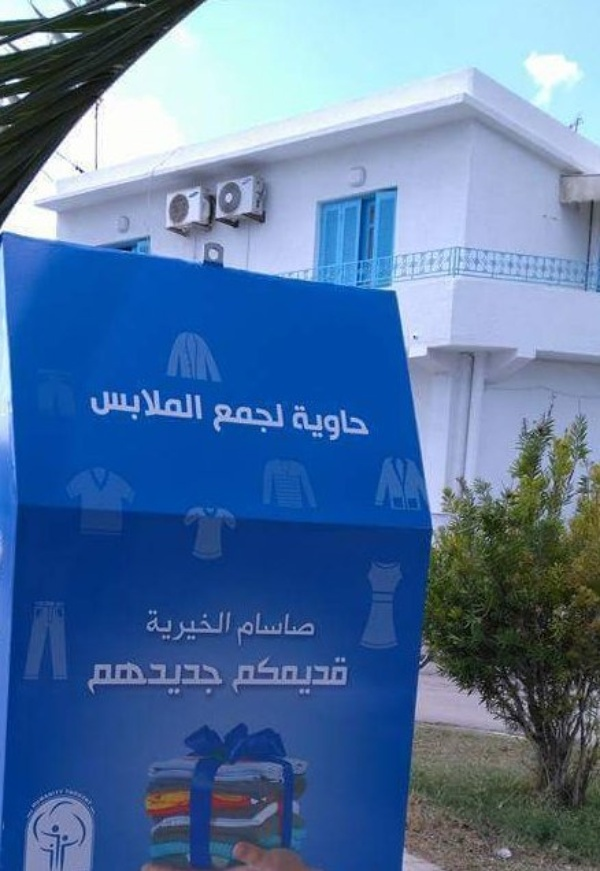text: (241, 652, 256, 696), (257, 652, 272, 696), (273, 652, 288, 696), (289, 652, 304, 696), (305, 652, 320, 696), (321, 652, 336, 696), (305, 405, 320, 444), (321, 405, 336, 444), (337, 405, 352, 444), (353, 405, 368, 444), (81, 659, 96, 698), (97, 659, 112, 698), (113, 659, 128, 698), (129, 659, 144, 698), (145, 659, 160, 698), (161, 659, 176, 698), (177, 659, 192, 698), (193, 659, 208, 698), (209, 659, 224, 698), (337, 652, 350, 696), (97, 388, 112, 426), (113, 388, 128, 426), (129, 388, 144, 426), (145, 388, 160, 426), (161, 388, 176, 426), (177, 388, 192, 426), (241, 610, 256, 647), (257, 610, 272, 647), (273, 610, 288, 647), (289, 610, 304, 647), (225, 400, 240, 436), (241, 400, 256, 436), (257, 400, 272, 436), (145, 607, 160, 643), (161, 607, 176, 643), (177, 607, 192, 643), (193, 607, 208, 643), (209, 607, 224, 643), (291, 405, 304, 444), (210, 400, 224, 436), (193, 388, 205, 426), (273, 400, 285, 436), (305, 610, 316, 647), (232, 652, 240, 696), (225, 607, 232, 643), (92, 388, 96, 426), (369, 405, 372, 444), (239, 610, 240, 647), (143, 607, 144, 643)
